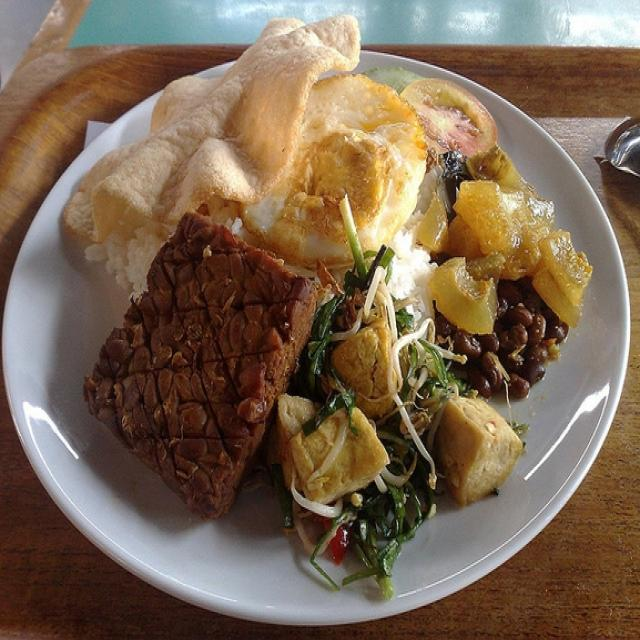米饭主食: (30, 10, 611, 599)
